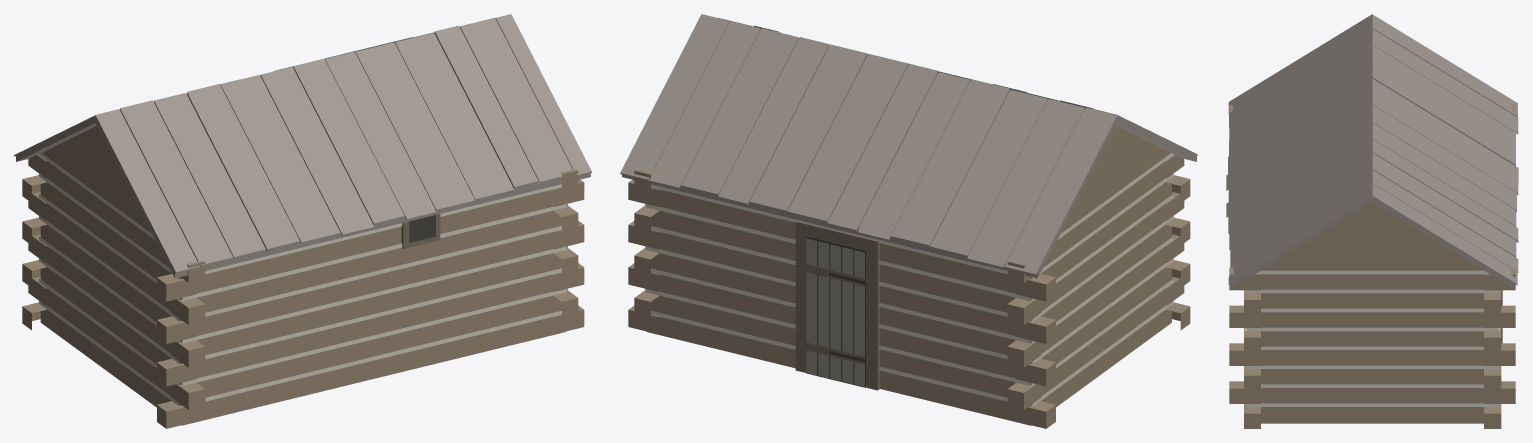
Rendered from first_fort_outer_stable_south__first_fort_1803.glb.
The picture shows the model from 3 angles, left to right: view 1: azimuth 30°, elevation 25°; view 2: azimuth 150°, elevation 25°; view 3: azimuth 270°, elevation 25°; orthographic projection. The views are drawn at different scales.
Parts seen in each view (by area): view 1: first_fort_outer_stable_south__first_fort_1803; view 2: first_fort_outer_stable_south__first_fort_1803; view 3: first_fort_outer_stable_south__first_fort_1803.
Boxes of the visible parts, <box> form: first_fort_outer_stable_south__first_fort_1803: <box>14,14,591,428</box>; first_fort_outer_stable_south__first_fort_1803: <box>620,14,1197,428</box>; first_fort_outer_stable_south__first_fort_1803: <box>1226,14,1518,428</box>.
Size of the model in its own units: 6 by 3.62 by 4.07.
